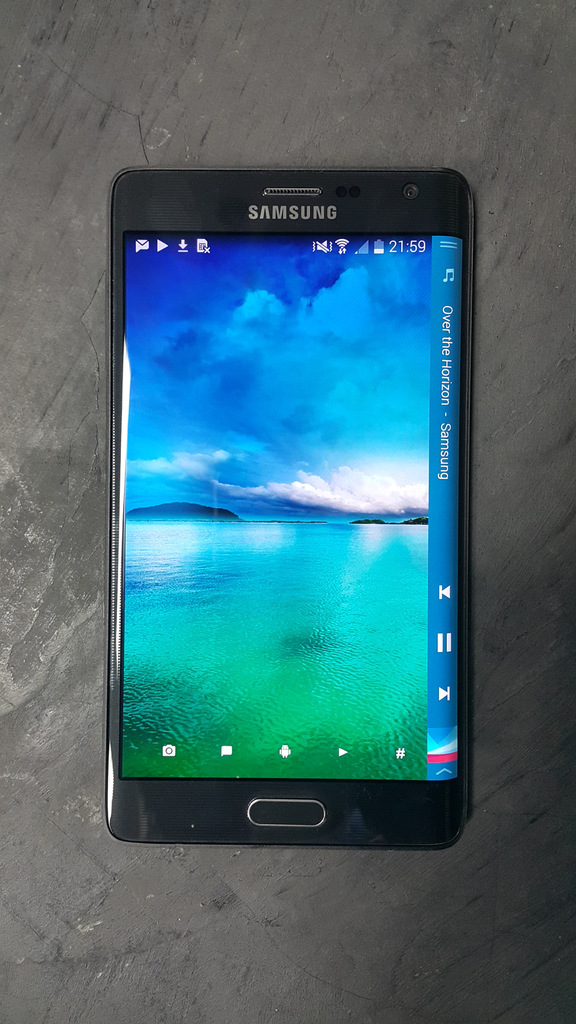Mobile-phone: (111, 167, 479, 860)
